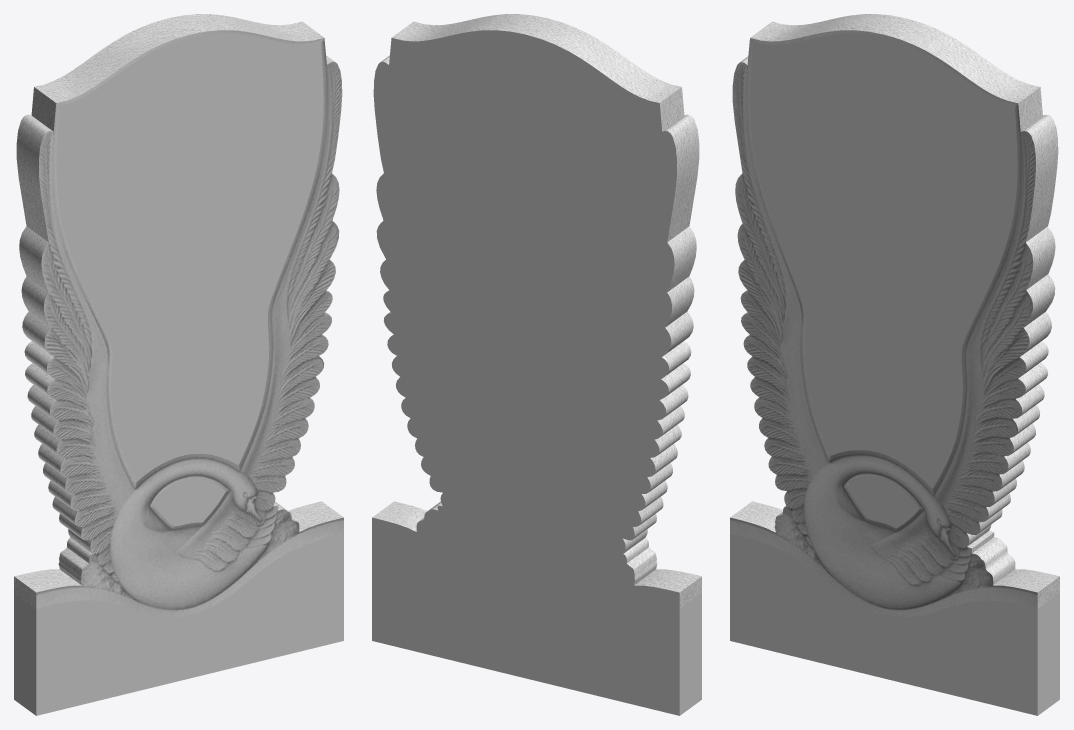
Rendered from cnf8d70d0a04_tkf.glb.
3 views of the same model, side by side, from view 1: azimuth 30°, elevation 25°; view 2: azimuth 150°, elevation 25°; view 3: azimuth 330°, elevation 25° (orthographic).
Parts seen in each view (by area): view 1: Pam-d02-029, Pam-d02-029_2_notexture; view 2: Pam-d02-029, Pam-d02-029_2_notexture; view 3: Pam-d02-029, Pam-d02-029_2_notexture.
Boxes of the visible parts, x1,y1,x2,y2 form: Pam-d02-029: (14, 33, 343, 715); Pam-d02-029_2_notexture: (14, 14, 343, 617); Pam-d02-029: (372, 30, 701, 715); Pam-d02-029_2_notexture: (372, 14, 701, 608); Pam-d02-029: (730, 33, 1059, 715); Pam-d02-029_2_notexture: (730, 14, 1059, 617).
Size of the model in its own units: 0.4 by 0.8 by 0.05.
Materials: 1 (1 with a texture image).
